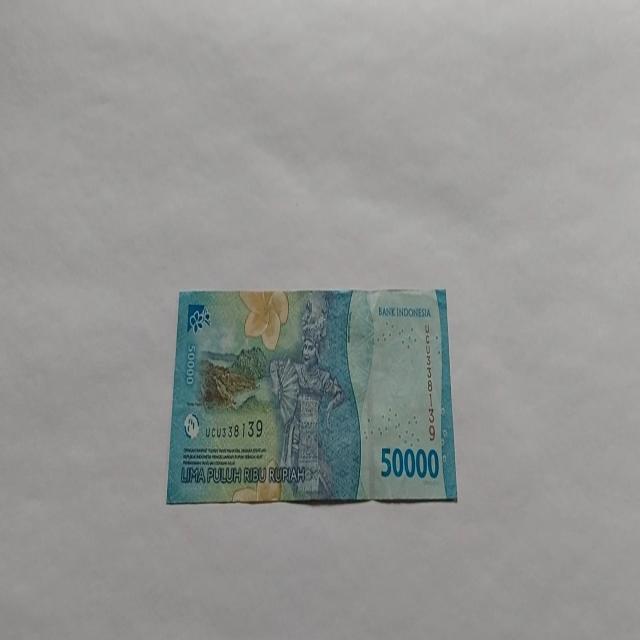lima puluh ribu rupiah: (165, 286, 458, 506)
